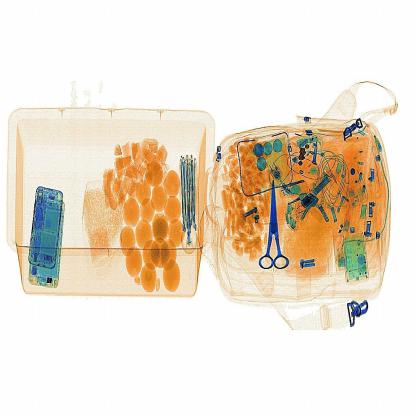gun: (253, 166, 299, 281)
